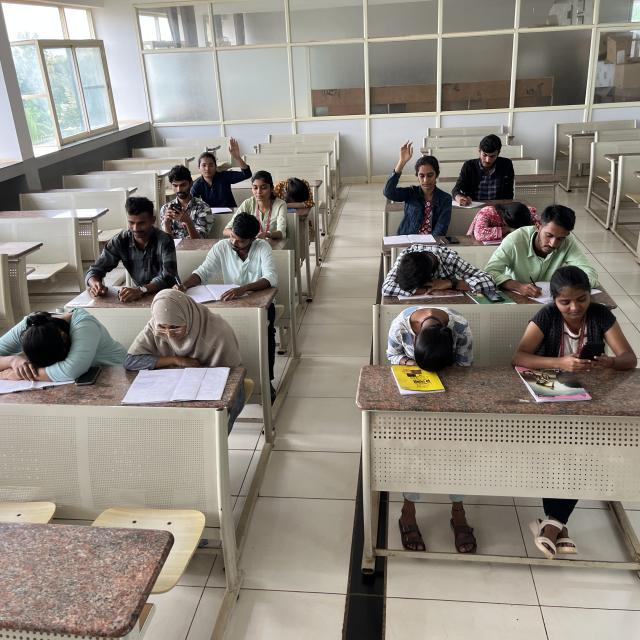Hand Rising: (380, 141, 454, 228), (196, 136, 245, 204)
Reading: (123, 288, 228, 399)
Sleeping: (0, 306, 120, 370), (385, 305, 481, 370), (380, 244, 484, 299), (469, 200, 538, 241), (274, 176, 314, 210)
Using Phone: (541, 266, 635, 374), (162, 164, 204, 235)
Writing: (510, 203, 596, 305), (170, 215, 266, 298), (449, 133, 516, 208)
